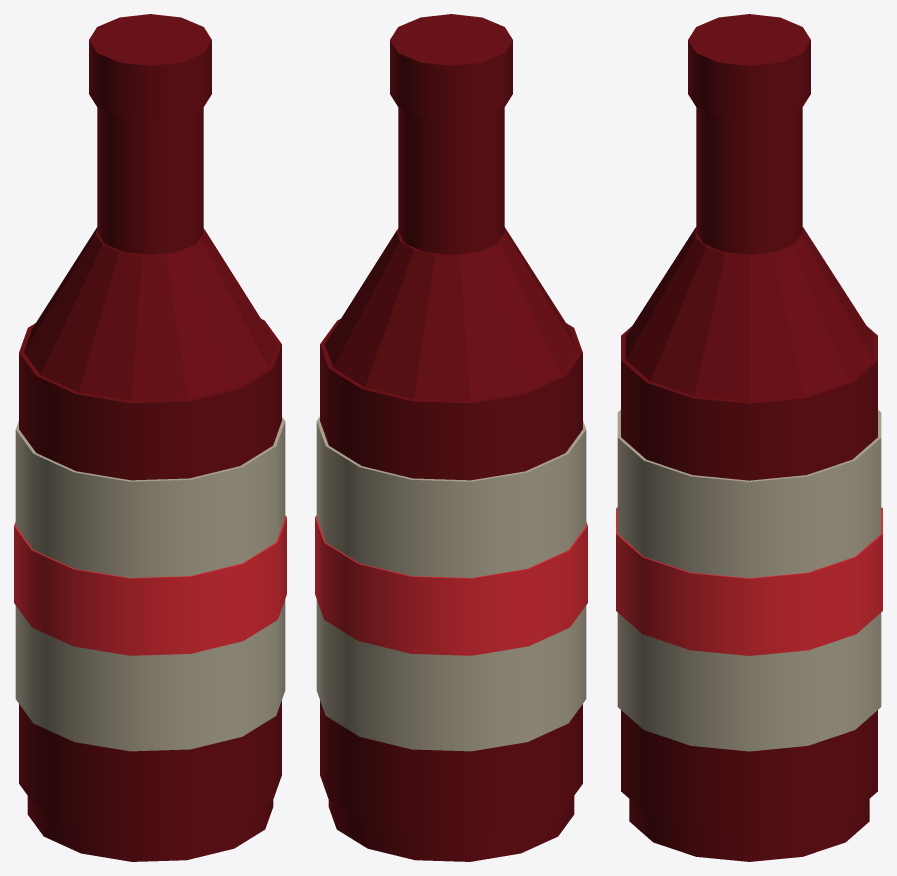
File: drink_bottle_hair_trigger.gltf
The picture shows the model from 3 angles, left to right: view 1: azimuth 30°, elevation 25°; view 2: azimuth 150°, elevation 25°; view 3: azimuth 270°, elevation 25°; orthographic projection.
Parts seen in each view (by area): view 1: drink_bottle_hair_trigger; view 2: drink_bottle_hair_trigger; view 3: drink_bottle_hair_trigger.
Part boxes in pixels (<box>): drink_bottle_hair_trigger: <box>14,14,286,861</box>; drink_bottle_hair_trigger: <box>315,14,587,861</box>; drink_bottle_hair_trigger: <box>616,14,882,861</box>.
Bounding box in the file's own units: 0.0644 × 0.2 × 0.0628.
